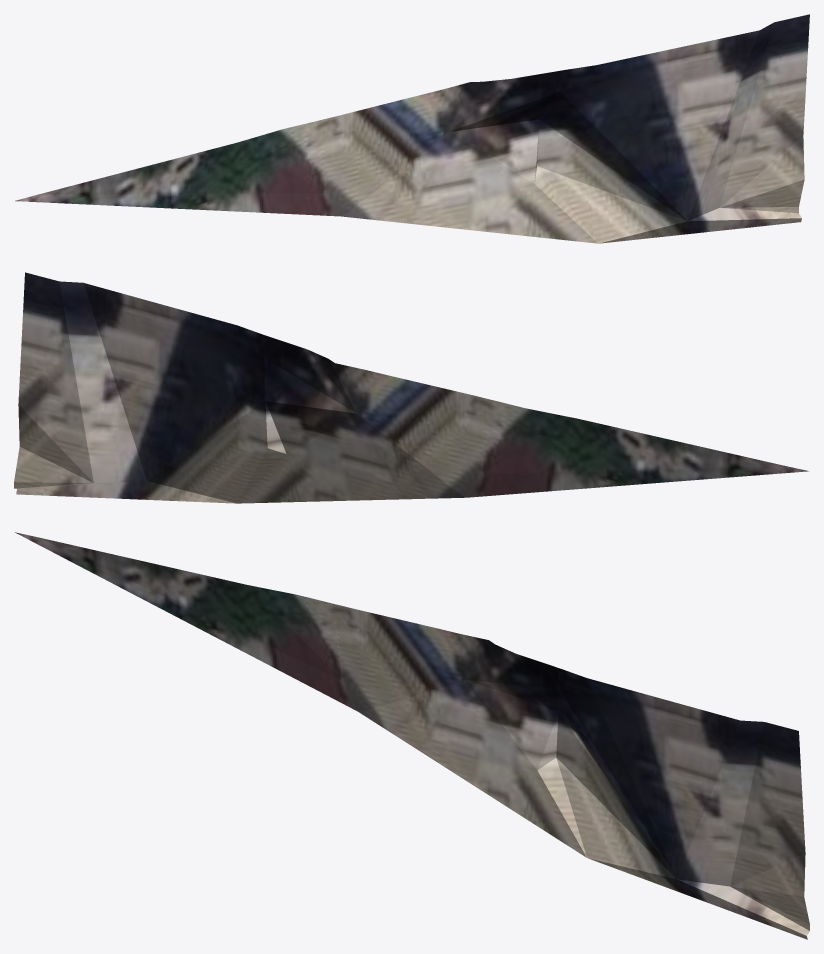
3 views of the same model, one above another, from view 1: azimuth 30°, elevation 25°; view 2: azimuth 150°, elevation 25°; view 3: azimuth 330°, elevation 25° (orthographic).
Parts seen in each view (by area): view 1: 0_1_2_2_0_0; view 2: 0_1_2_2_0_0; view 3: 0_1_2_2_0_0.
Boxes of the visible parts, x1,y1,x2,y2 form: 0_1_2_2_0_0: (15, 14, 809, 243); 0_1_2_2_0_0: (14, 272, 808, 503); 0_1_2_2_0_0: (15, 532, 809, 939).
Size of the model in its own units: 203 by 52.64 by 8.75.
Materials: 1 (1 with a texture image).
